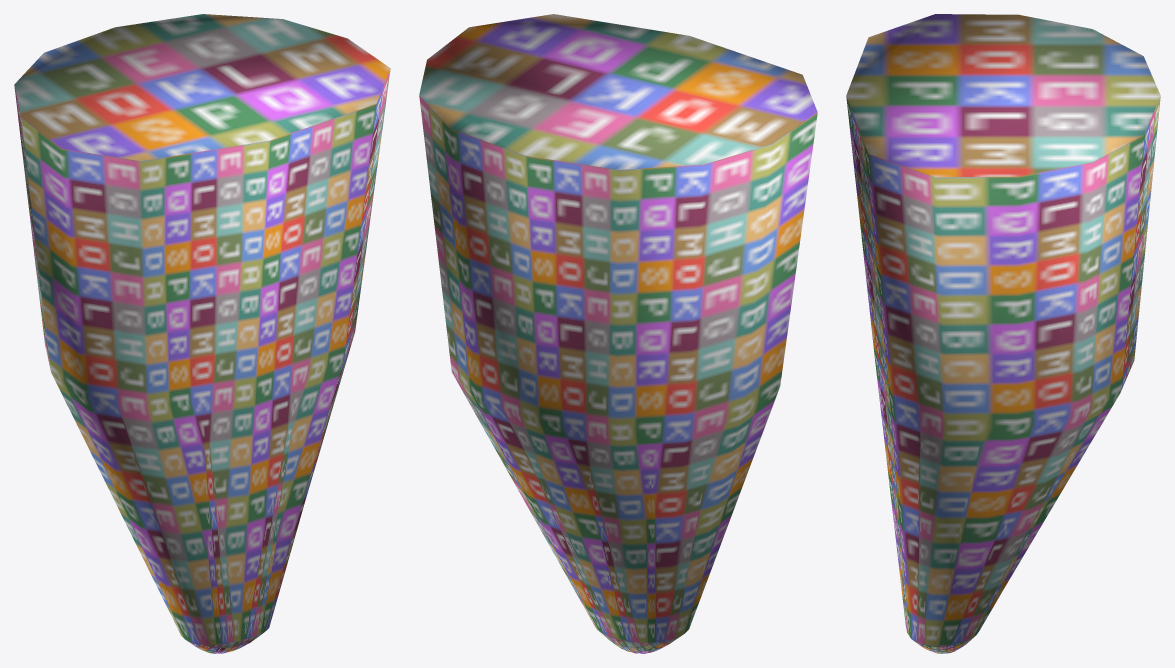
The model's file is snaketail.obj.
The picture shows the model from 3 angles, left to right: view 1: azimuth 30°, elevation 25°; view 2: azimuth 150°, elevation 25°; view 3: azimuth 270°, elevation 25°; orthographic projection. The views are drawn at different scales.
Visible parts, largest first — view 1: Cube4; view 2: Cube4; view 3: Cube4.
Boxes of the visible parts, x1,y1,x2,y2 form: Cube4: (14,14,390,653); Cube4: (419,14,817,653); Cube4: (846,14,1160,653).
Bounding box in the file's own units: 1.32 × 2.09 × 1.08.
Materials: 1 (1 with a texture image).
